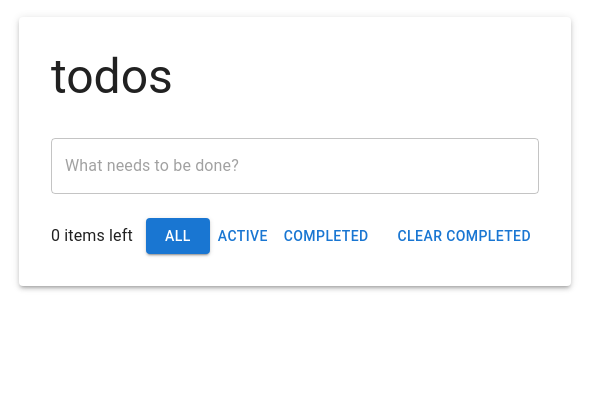
filters todos
The image size is (591, 408).
Step 1. Type "Active todo" into the field with placeholder "What needs to be done?" → [295, 166], box [51,138,539,194]
Step 2. Submit the form from the field with placeholder "What needs to be done?", box [51,138,539,194]
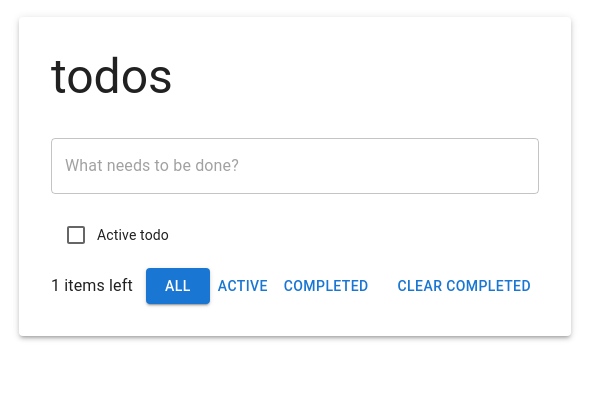
Step 3. Type "Completed todo" into the field with placeholder "What needs to be done?" → [295, 166], box [51,138,539,194]
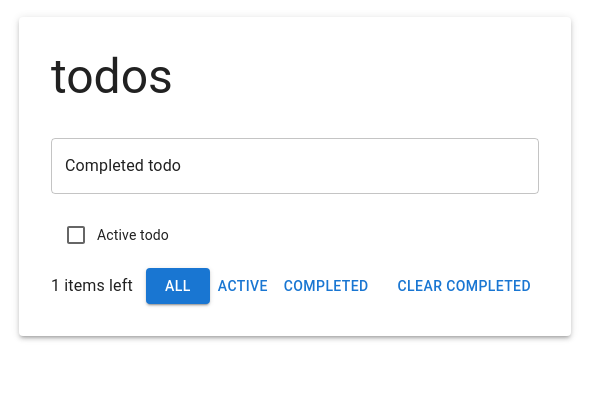
Step 4. Submit the form from the field with placeholder "What needs to be done?", box [51,138,539,194]
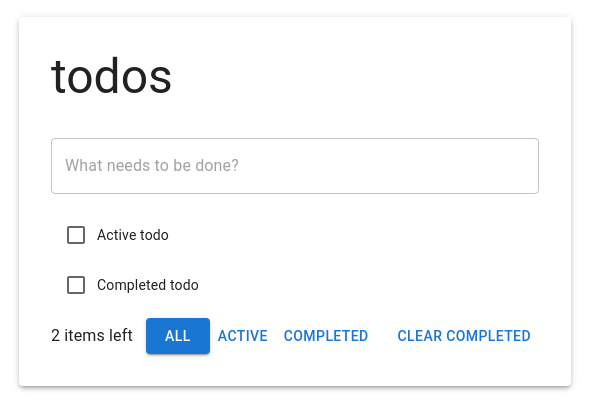
Step 5. Click the button "Completed todo" → [131, 285], box [64,273,199,297]
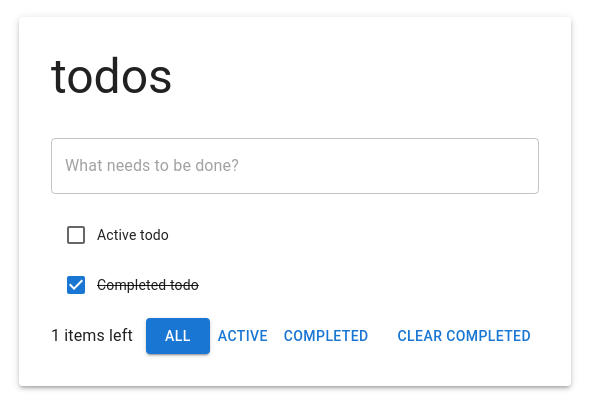
Step 6. Click the button "Active" → [243, 336], box [210,318,276,354]
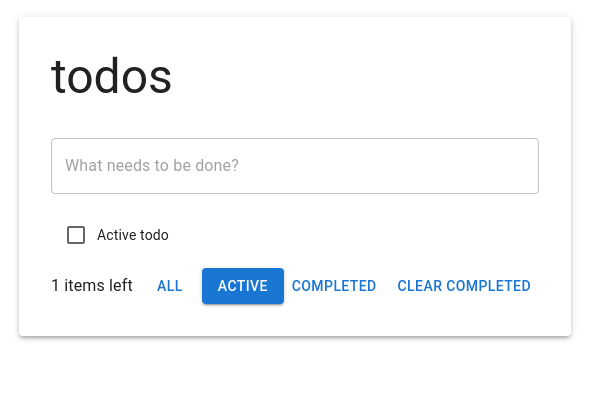
Result: the text "Active todo" is shown at [97,227,169,243]
Result: the button "Completed todo" is gone
Step 7. Click the button "Completed" → [334, 286], box [284,268,385,304]
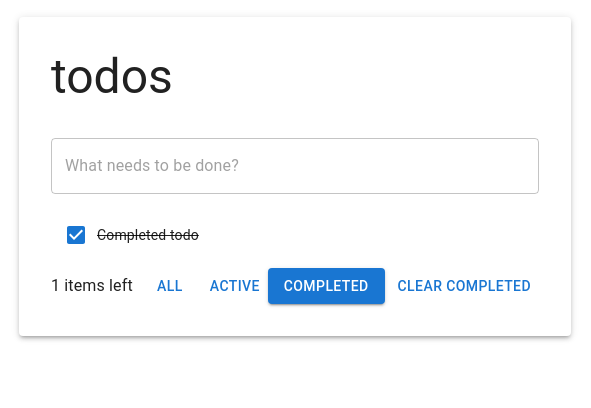
Result: the button "Active todo" is gone
Result: the text "Completed todo" is shown at [97,227,199,243]
